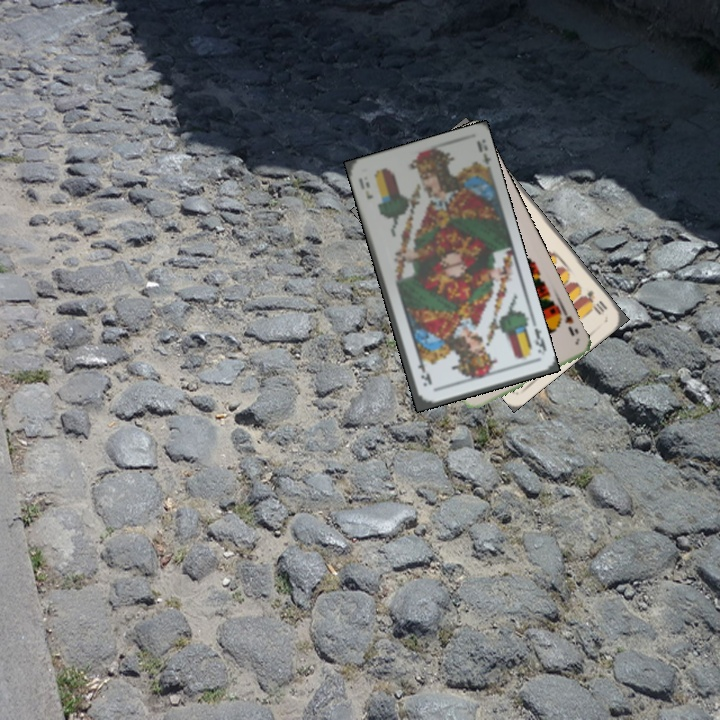E10: (576, 286, 610, 318)
EK: (355, 173, 376, 202), (530, 324, 549, 354)
S9: (552, 303, 577, 339)
